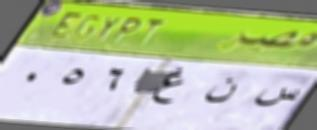0: (25, 68, 41, 85)
5: (61, 64, 87, 92)
6: (102, 61, 127, 95)
ghayn: (153, 65, 186, 112)
noon: (199, 72, 239, 108)
seen: (250, 74, 299, 113)
